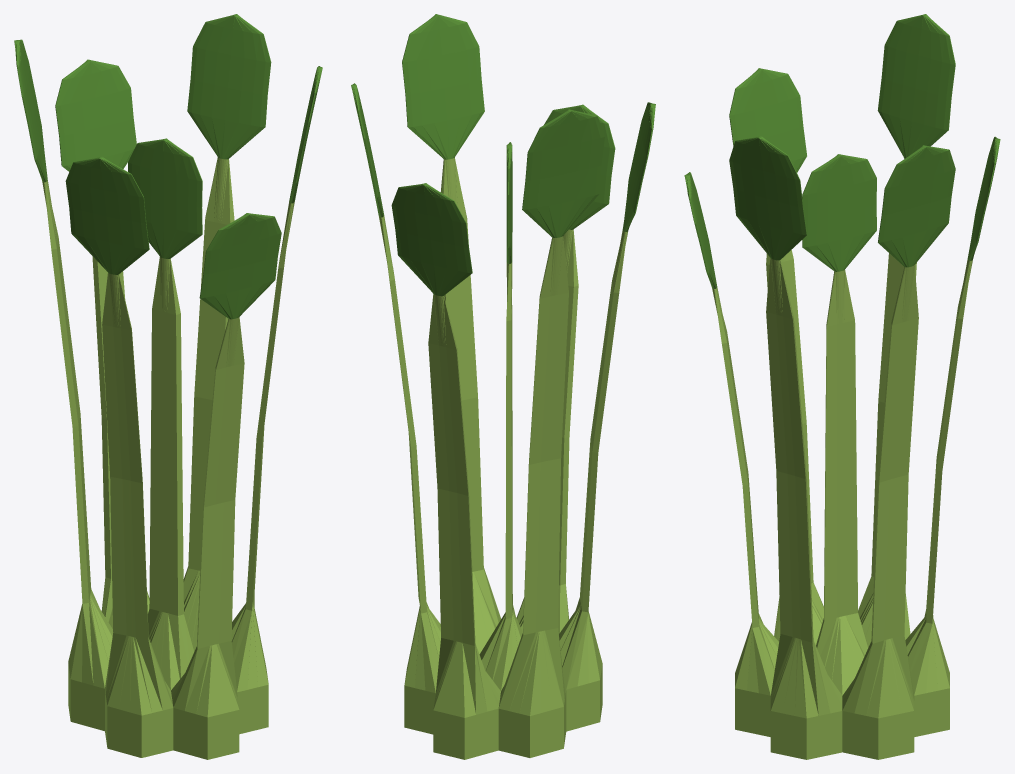
The model's file is NEW_RECOVERY_081_LOD1.fbx.
3 views of the same model, side by side, from view 1: azimuth 30°, elevation 25°; view 2: azimuth 150°, elevation 25°; view 3: azimuth 270°, elevation 25° (orthographic). The views are drawn at different scales.
Parts seen in each view (by area): view 1: Whole_celery_bunch; view 2: Whole_celery_bunch; view 3: Whole_celery_bunch.
Part boxes in pixels (bbox=[...]): Whole_celery_bunch: bbox=[14, 14, 322, 759]; Whole_celery_bunch: bbox=[351, 14, 655, 759]; Whole_celery_bunch: bbox=[684, 14, 1000, 759].
Size of the model in its own units: 14.12 by 15.88 by 36.3.
